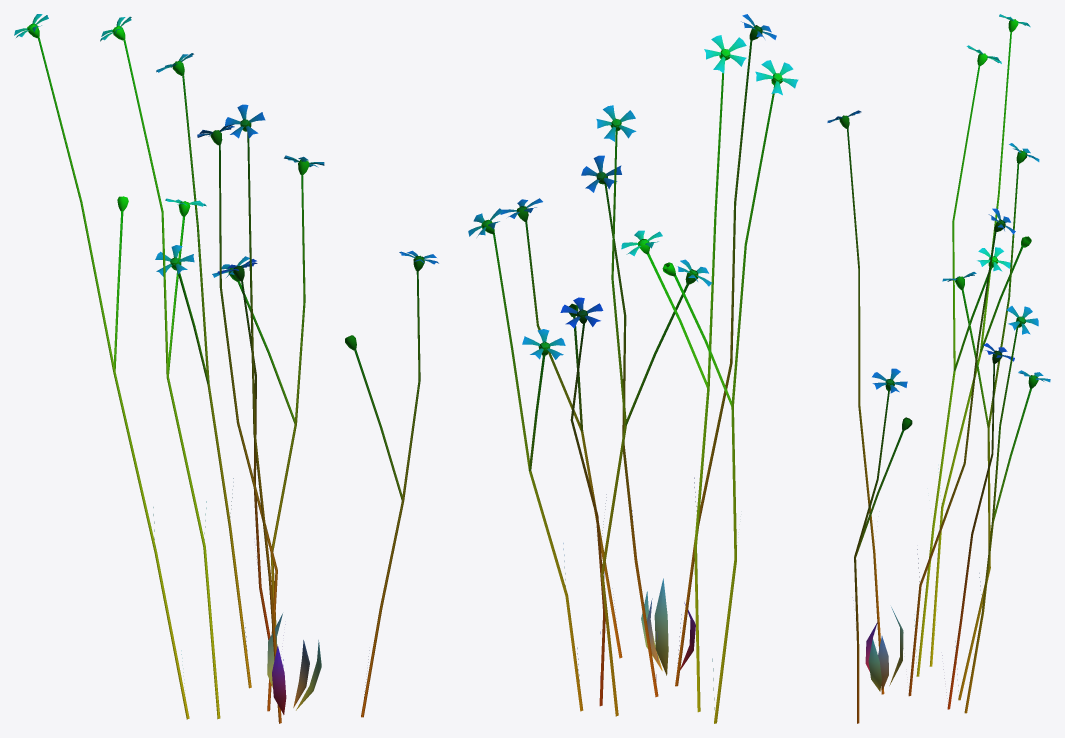
The model's file is SM_Flower_Cornflower_A_LOD2.fbx.
3 views of the same model, side by side, from view 1: azimuth 30°, elevation 25°; view 2: azimuth 150°, elevation 25°; view 3: azimuth 270°, elevation 25° (orthographic). The views are drawn at different scales.
Parts seen in each view (by area): view 1: SM_Flower_Cornflower_A_LOD2; view 2: SM_Flower_Cornflower_A_LOD2; view 3: SM_Flower_Cornflower_A_LOD2.
Part boxes in pixels (x1,y1,x2,y2): SM_Flower_Cornflower_A_LOD2: [14, 14, 438, 723]; SM_Flower_Cornflower_A_LOD2: [468, 14, 798, 723]; SM_Flower_Cornflower_A_LOD2: [827, 14, 1050, 723].
Size of the model in its own units: 0.3791 by 0.7153 by 0.2377.
